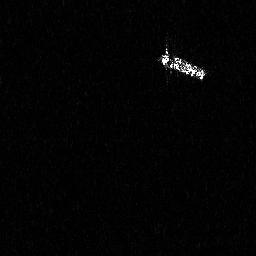ship: (158, 40, 208, 84)
